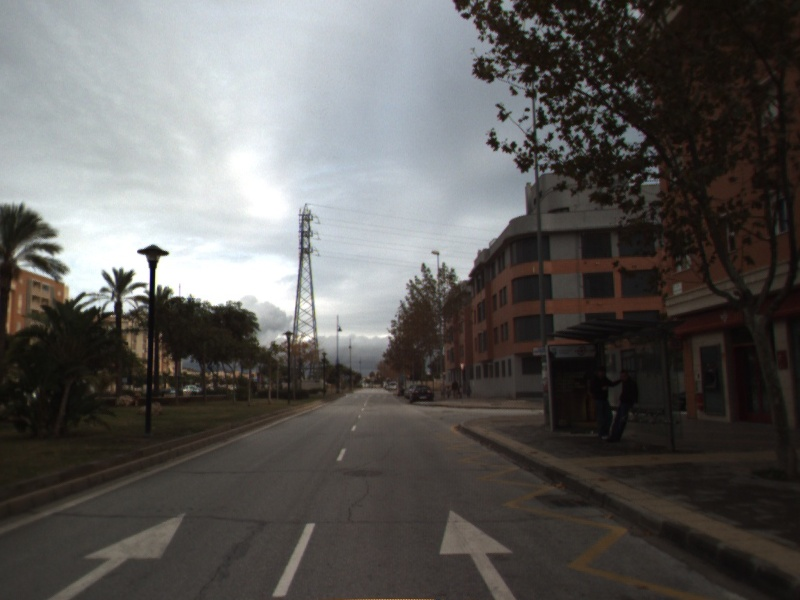STRAIGHT: (41, 510, 190, 600), (437, 508, 522, 600)
